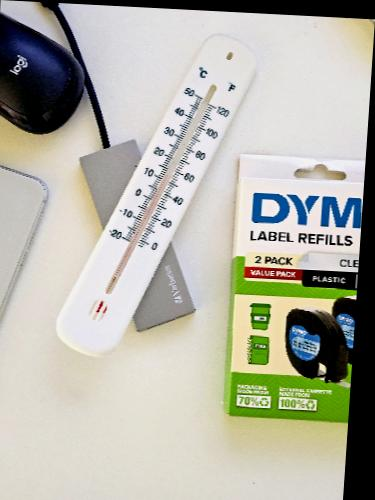thermo: (50, 29, 277, 358)
